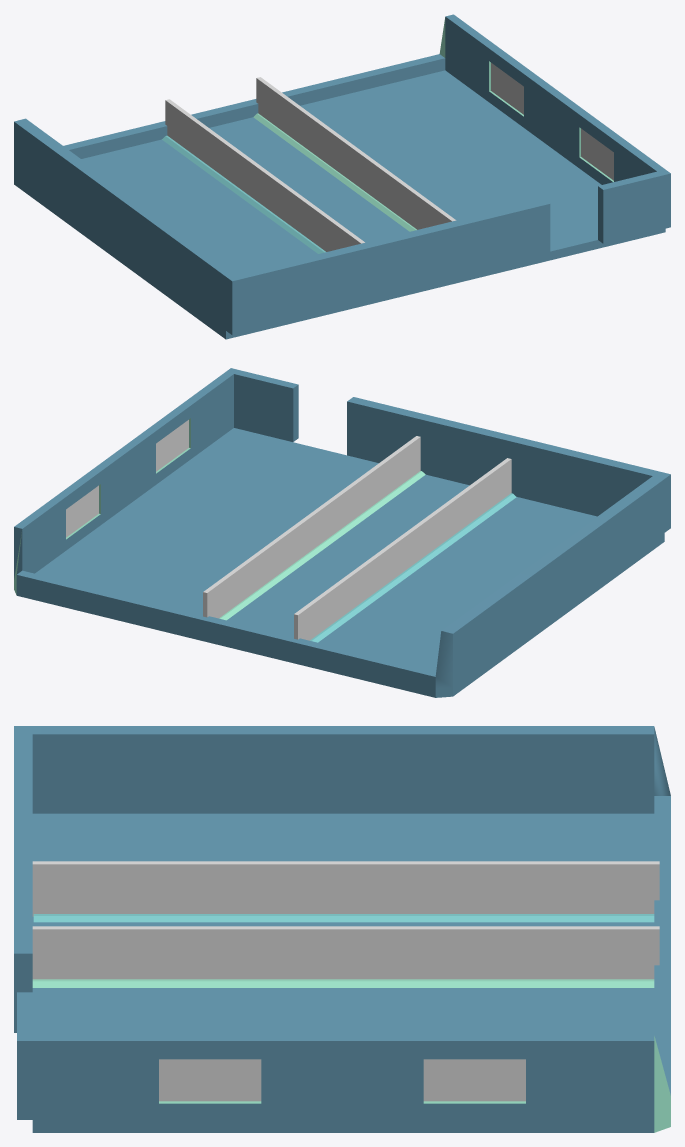
The model's file is Level01.fbx.
3 renders of one model, top to bottom at view 1: azimuth 30°, elevation 25°; view 2: azimuth 150°, elevation 25°; view 3: azimuth 270°, elevation 25°, orthographic. The views are drawn at different scales.
Parts seen in each view (by area): view 1: Level01, PreventerTrigger2, PreventerTrigger1, Window1, Window2; view 2: Level01, PreventerTrigger1, PreventerTrigger2, Window1, Window2; view 3: Level01, PreventerTrigger2, PreventerTrigger1, Window1, Window2.
Part boxes in pixels (<box>): Level01: <box>14,14,670,339</box>; PreventerTrigger2: <box>256,77,456,229</box>; PreventerTrigger1: <box>165,99,364,251</box>; Window1: <box>581,128,613,180</box>; Window2: <box>491,63,523,114</box>; Level01: <box>14,368,670,697</box>; PreventerTrigger1: <box>294,458,511,640</box>; PreventerTrigger2: <box>203,436,420,618</box>; Window1: <box>156,420,188,471</box>; Window2: <box>66,485,98,537</box>; Level01: <box>14,726,670,1132</box>; PreventerTrigger2: <box>32,926,659,979</box>; PreventerTrigger1: <box>32,861,659,916</box>; Window1: <box>159,1059,261,1101</box>; Window2: <box>423,1059,525,1101</box>.
Bounding box in the file's own units: 5181 × 710 × 4571.
